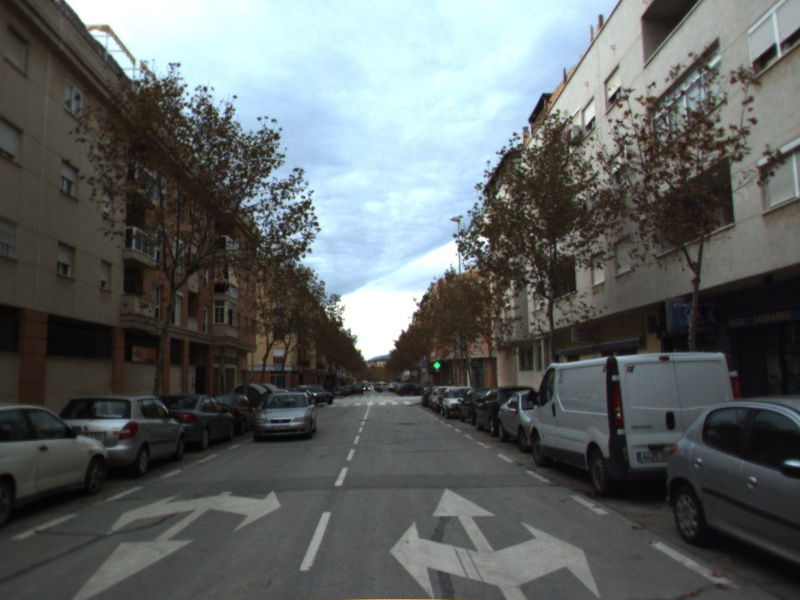STRAIGHT_LEFT_RIGHT: (387, 485, 602, 600)
